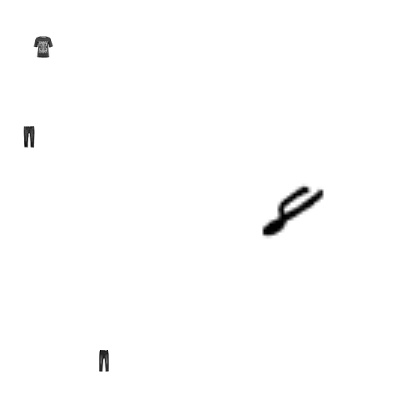1: (186, 42, 298, 154)
2: (108, 216, 122, 230)
8: (19, 122, 131, 234), (191, 292, 275, 376)
9: (160, 160, 182, 182)
Coat: (321, 206, 377, 262)
Shirt: (323, 343, 345, 365)
